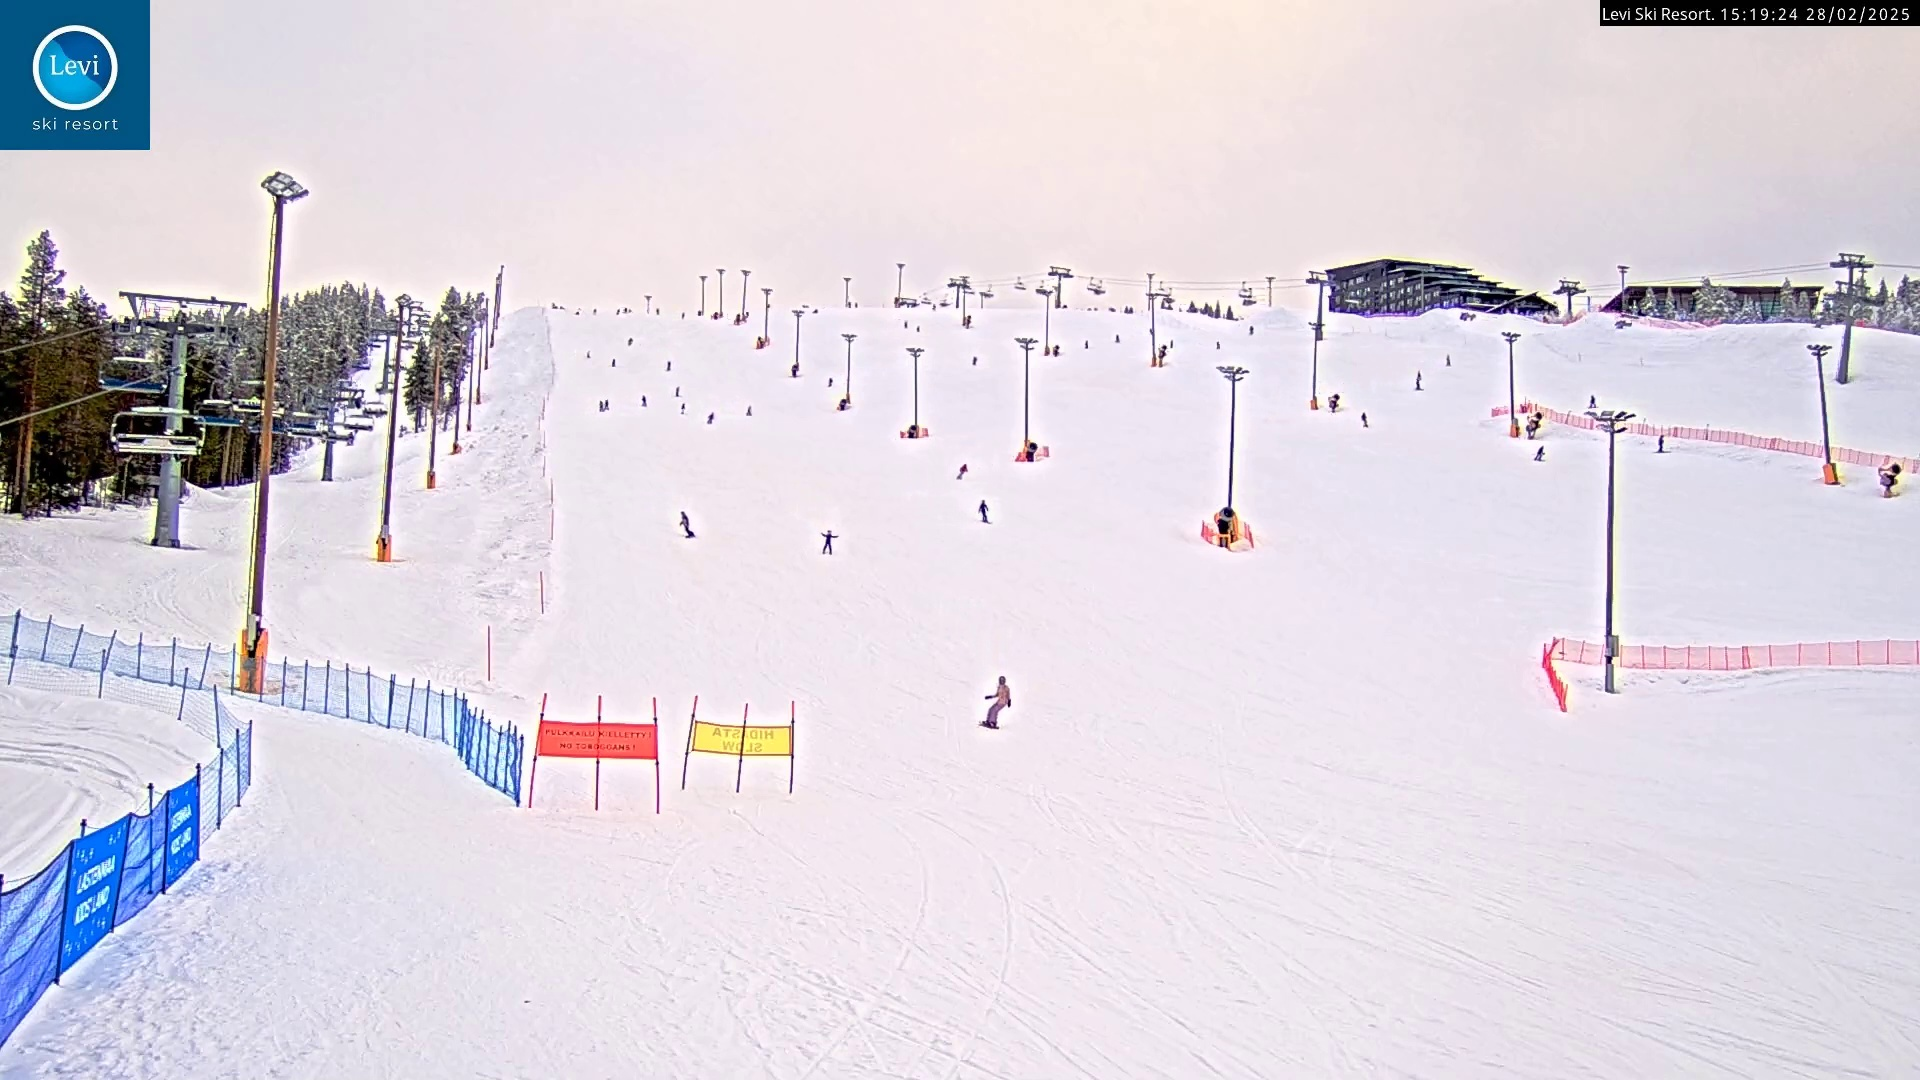snowboarder: (976, 671, 1011, 732)
